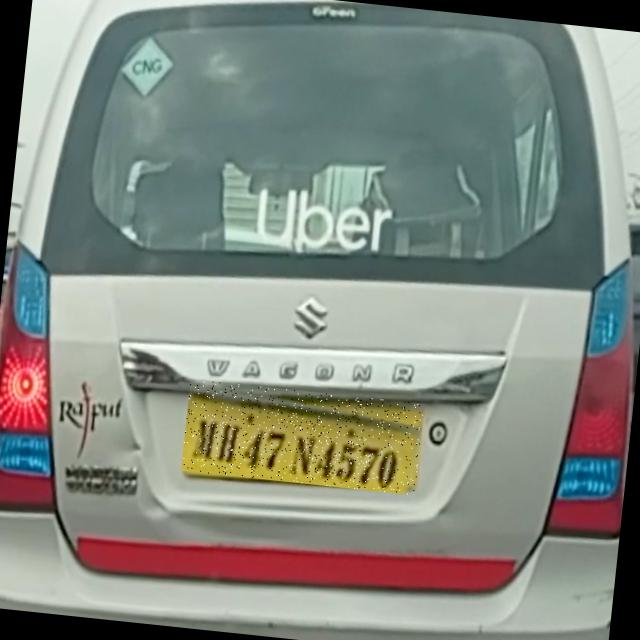Plate: (182, 380, 425, 496)
